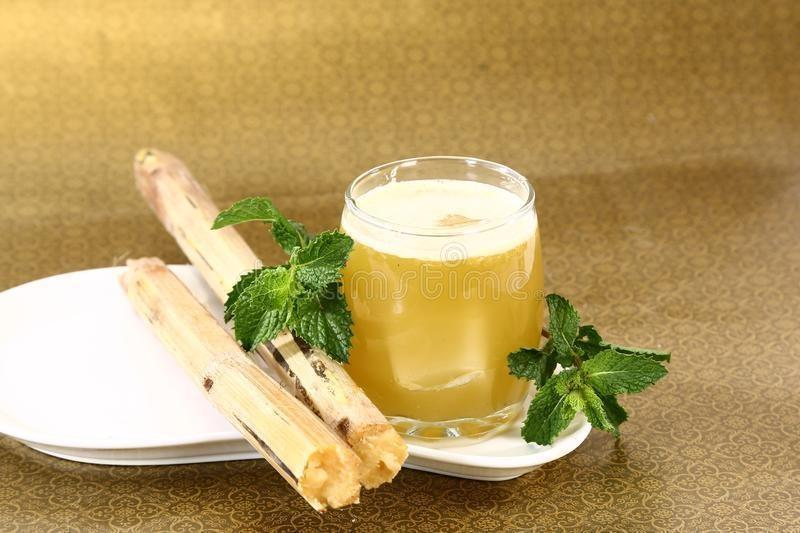glass-normal: (339, 155, 545, 445)
